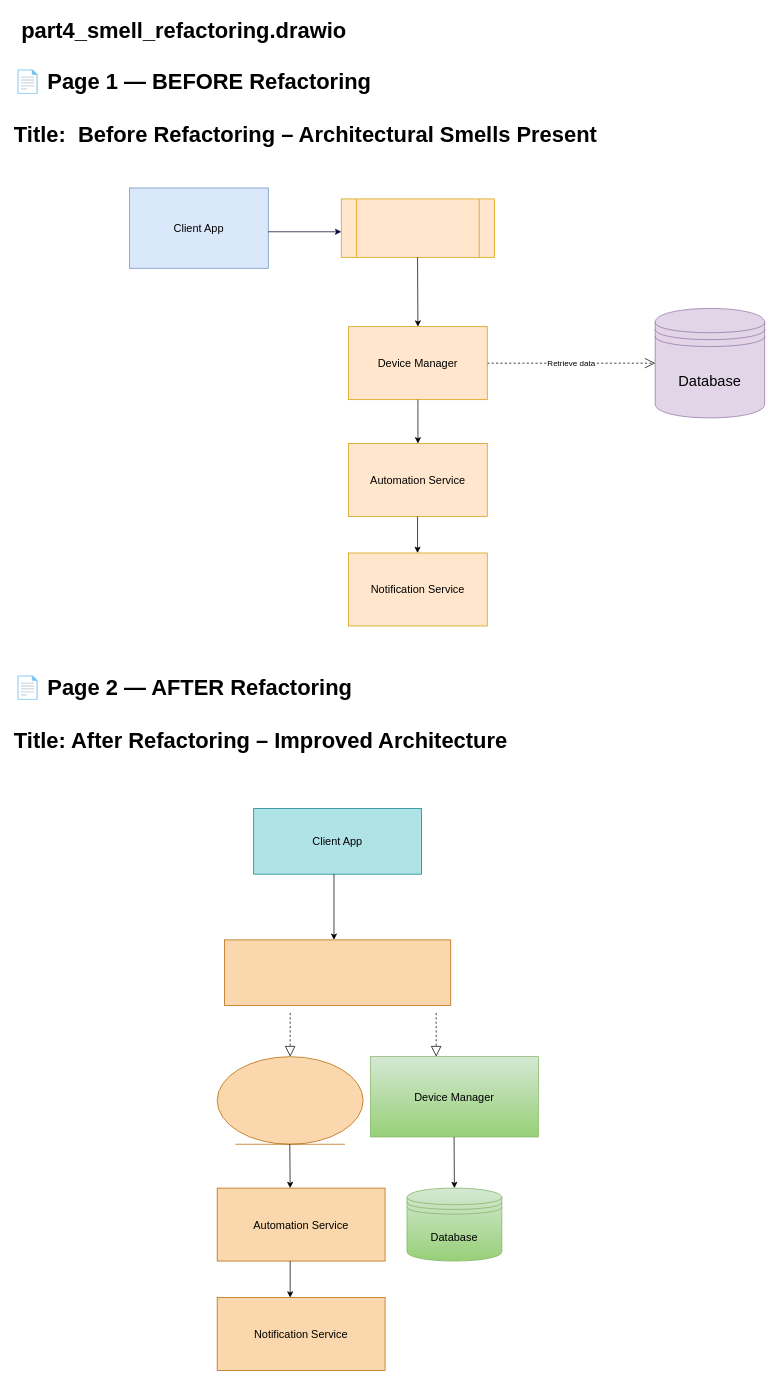
This 777x1383 diagram has some shape labels left out. The shapes that lost their labels are listed below. From the top down, each one's centre as x and y in pixels, then its label:
point 418,227: API Gateaway (Auth + Device Validation + Automation Rules + Routing)
point 337,972: API Gateway ( Routing + Rate Limiting + Token Verification
point 289,1100: Identify Service (Centralized AuthZ)
